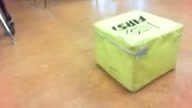cube: (92, 9, 184, 94)
